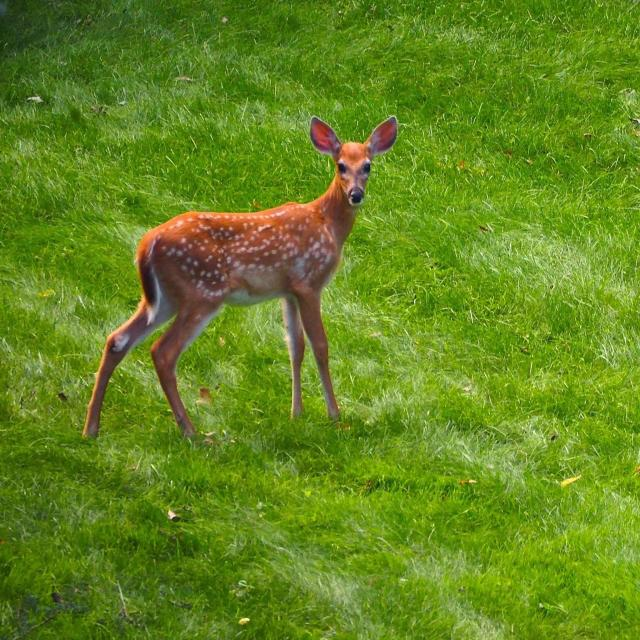not_pig: (81, 114, 398, 442)
